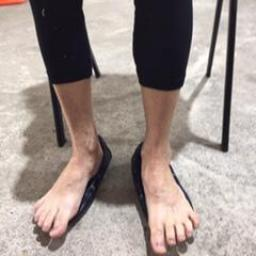Front View -Both Feet-: (24, 102, 206, 253)
